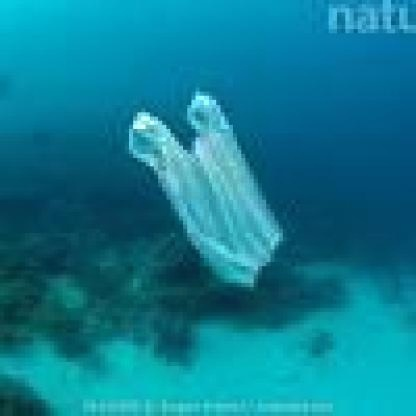pbag: (120, 83, 300, 291)
